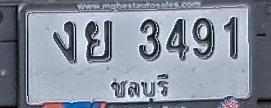1: (224, 16, 238, 58)
3: (138, 18, 160, 60)
4: (166, 18, 188, 60)
9: (192, 18, 214, 59)
A07: (52, 20, 76, 62)
A34: (84, 20, 113, 62)
CBI: (109, 72, 172, 103)
